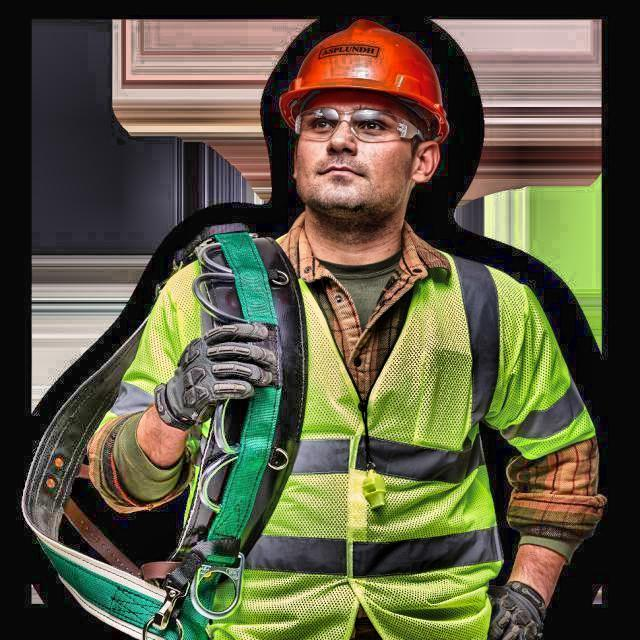safety_helmet: (279, 17, 450, 143)
safety_jacket: (89, 243, 596, 640)
